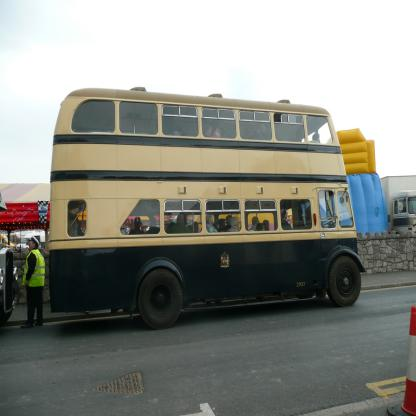Bus: (50, 86, 366, 330)
